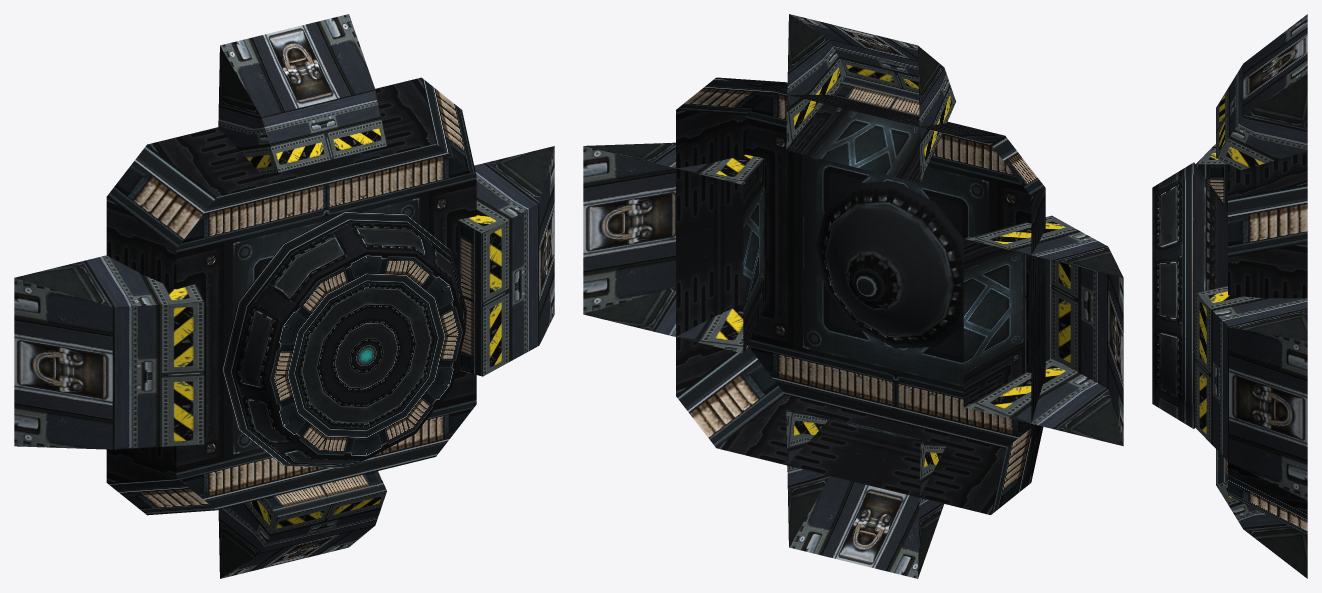
The model's file is Battery_wall_fixture_03.FBX.
3 views of the same model, side by side, from view 1: azimuth 30°, elevation 25°; view 2: azimuth 150°, elevation 25°; view 3: azimuth 270°, elevation 25° (orthographic). The views are drawn at different scales.
Visible parts, largest first — view 1: Battery_wall_fixture_03; view 2: Battery_wall_fixture_03; view 3: Battery_wall_fixture_03.
Boxes of the visible parts, box(x1,y1,x2,y2) form: Battery_wall_fixture_03: box(14, 14, 554, 578); Battery_wall_fixture_03: box(583, 14, 1123, 578); Battery_wall_fixture_03: box(1152, 14, 1307, 578).
Size of the model in its own units: 432 by 408 by 114.
